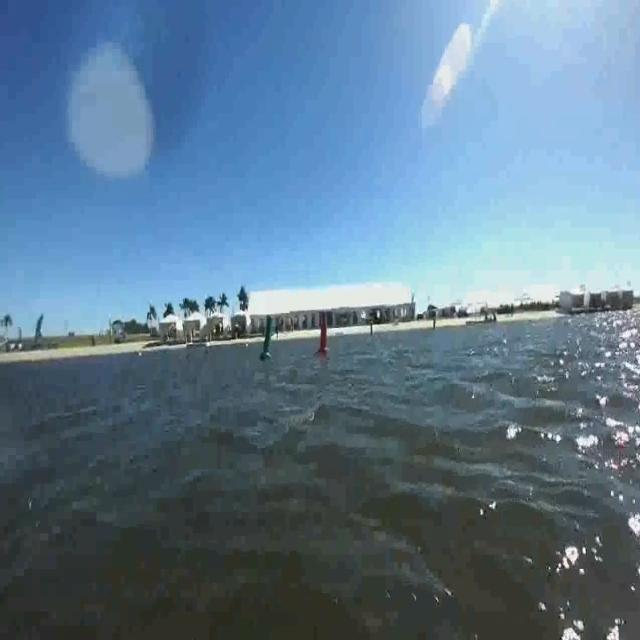green-column-buoy: (255, 310, 282, 362)
red-column-buoy: (318, 316, 334, 358)
